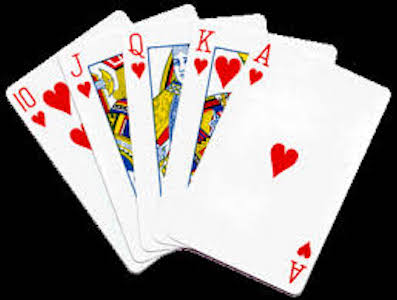10OfHearts: (4, 58, 80, 220)
AceOfHearts: (239, 24, 393, 299)
JackOfHearts: (58, 30, 132, 237)
KingOfHearts: (180, 19, 250, 204)
QueenOfHearts: (120, 20, 189, 241)
